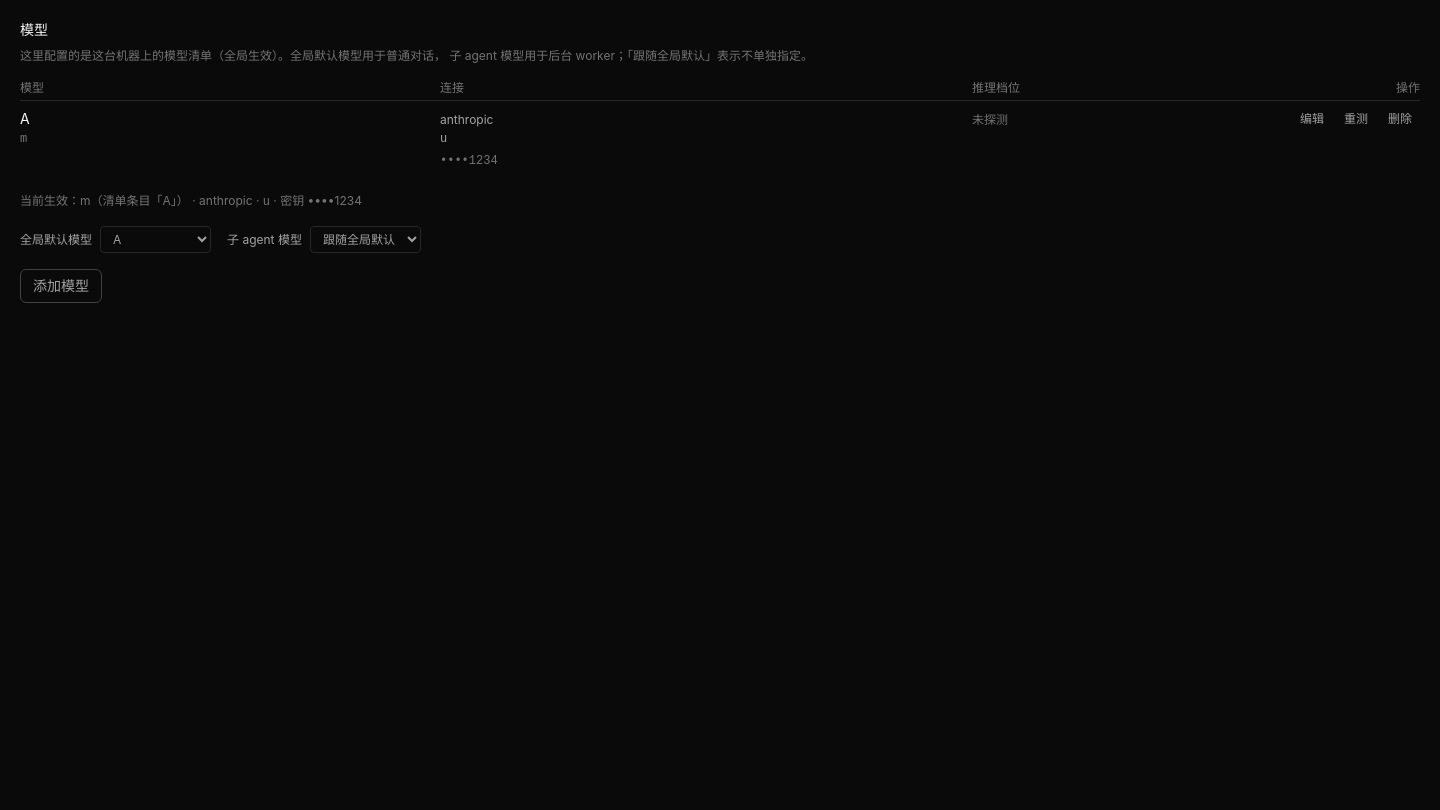
Test: SettingsModelsTab › tests with name (not api_key) when editing without changing the key
Check: the text "••••1234" is shown, box [440,154,498,168]
What coordinates should you click on to do the following:
click the button "编辑"
I would click on:
 (1312, 119)
Its box is [1292,109,1332,129].
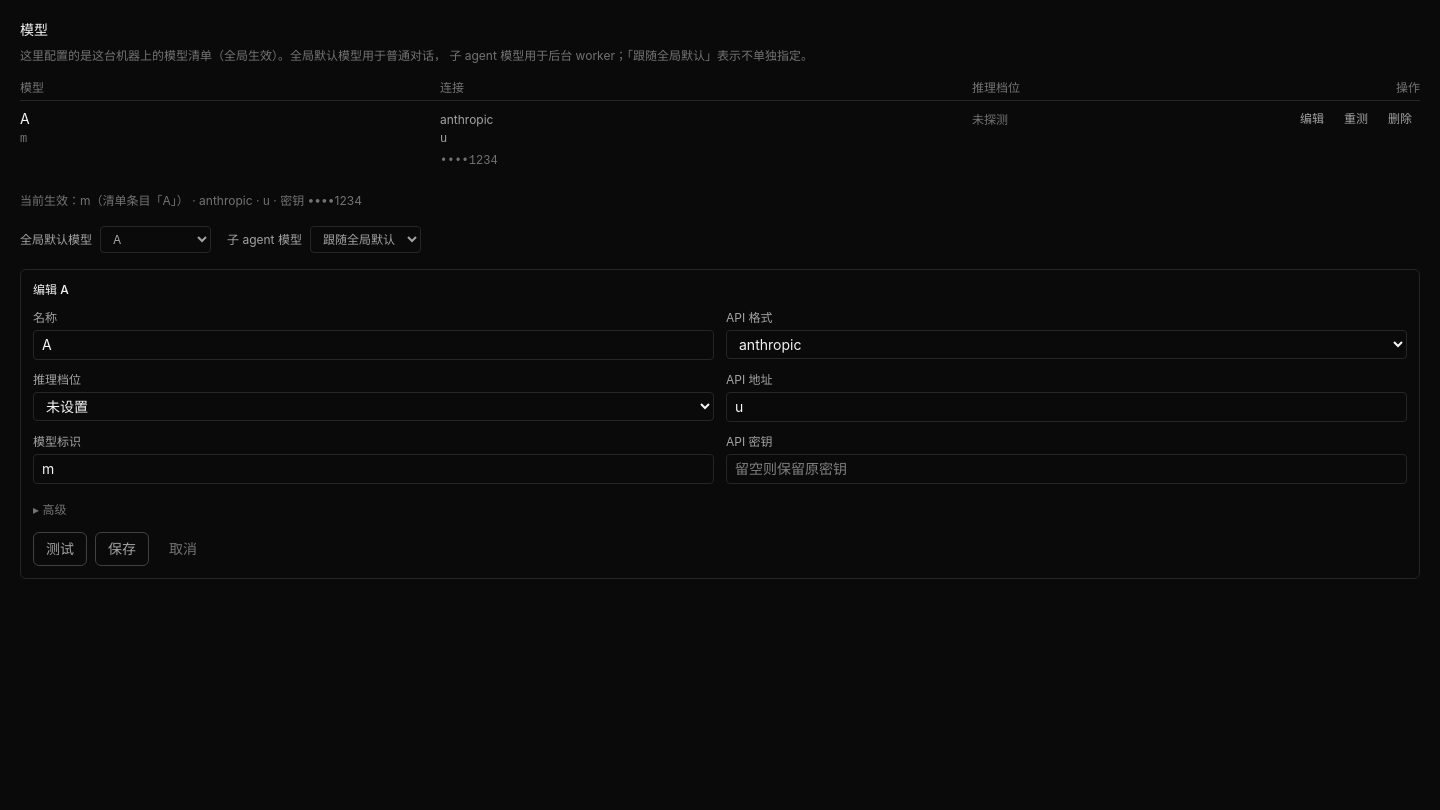
What coordinates should you click on to do the following:
click the button "测试"
I would click on:
 (60, 549)
Its box is [33,532,87,566].
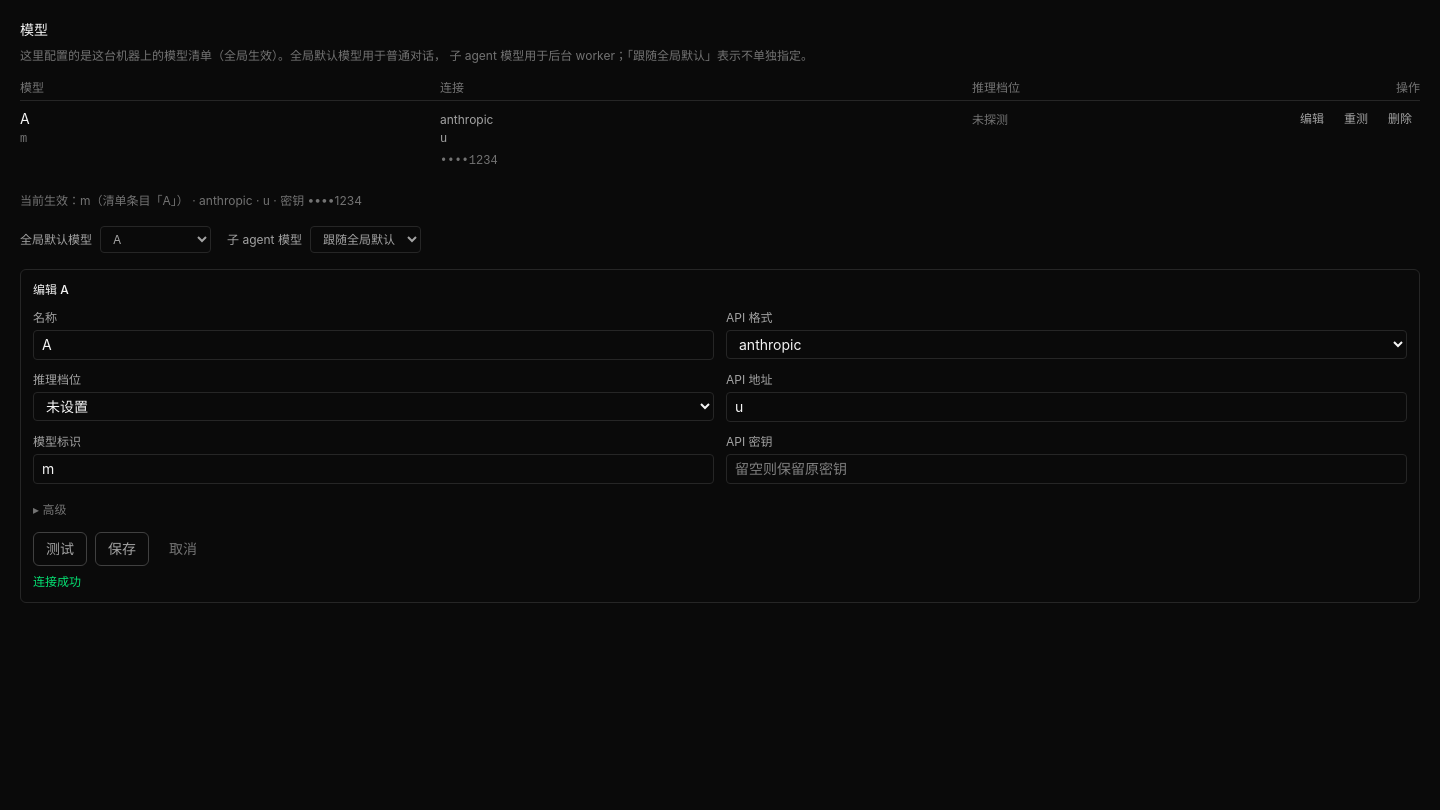
Check: the text "连接成功" is shown, box [33,574,81,589]
